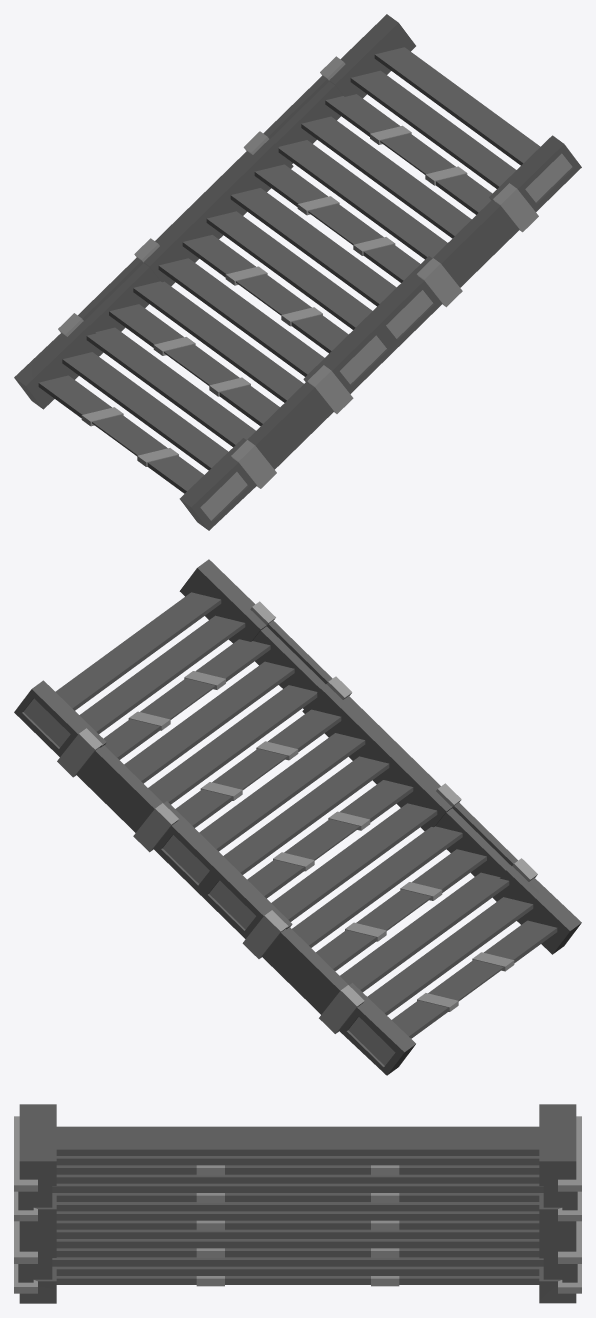
File: Stairs_02.FBX
3 views of the same model, one above another, from view 1: azimuth 30°, elevation 25°; view 2: azimuth 150°, elevation 25°; view 3: azimuth 270°, elevation 25° (orthographic). The views are drawn at different scales.
Parts seen in each view (by area): view 1: Stairs_02_LOD0; view 2: Stairs_02_LOD0; view 3: Stairs_02_LOD0.
Part boxes in pixels (box(x1,y1,x2,y2)): Stairs_02_LOD0: box(14, 14, 581, 530); Stairs_02_LOD0: box(14, 559, 581, 1075); Stairs_02_LOD0: box(14, 1104, 581, 1303).
Size of what is drawn, in the model's own units: 224 by 165 by 180.
